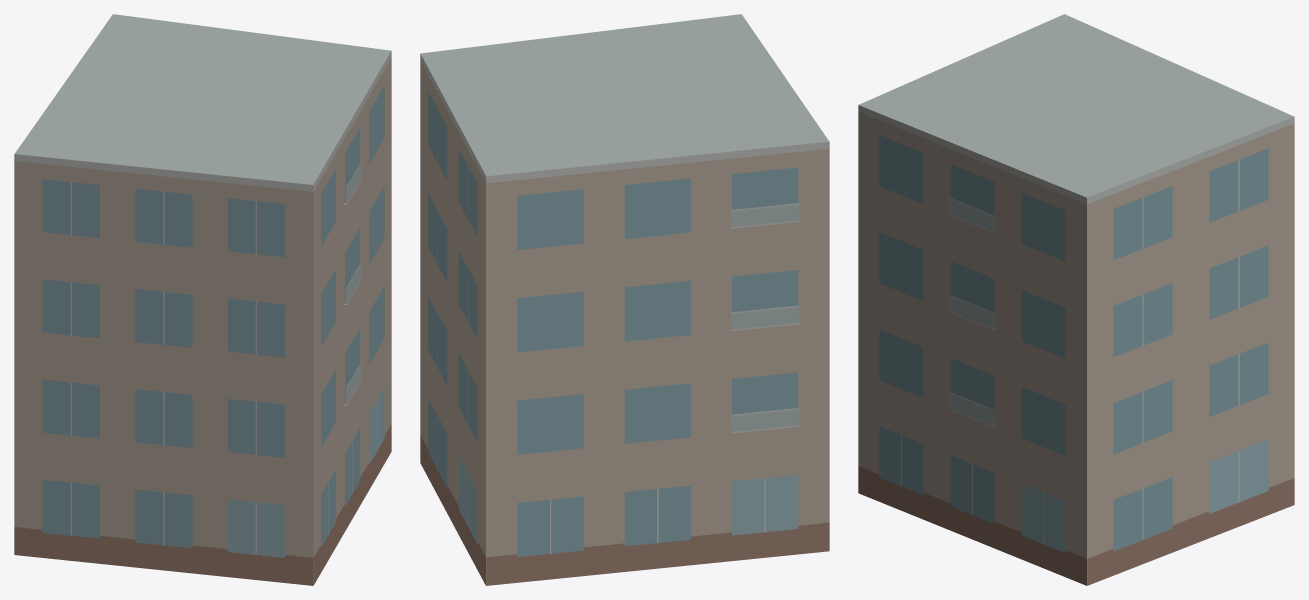
The model's file is survey-upis-32785951.glb.
The picture shows the model from 3 angles, left to right: view 1: azimuth 30°, elevation 25°; view 2: azimuth 150°, elevation 25°; view 3: azimuth 270°, elevation 25°; orthographic projection. The views are drawn at different scales.
Visible parts, largest first — view 1: survey-upis-32785951.tmp; view 2: survey-upis-32785951.tmp; view 3: survey-upis-32785951.tmp.
Boxes of the visible parts, bbox=[...] form: survey-upis-32785951.tmp: bbox=[14, 14, 391, 585]; survey-upis-32785951.tmp: bbox=[420, 14, 829, 585]; survey-upis-32785951.tmp: bbox=[858, 14, 1294, 585].
Bounding box in the file's own units: 14.32 × 14.1 × 14.37.
